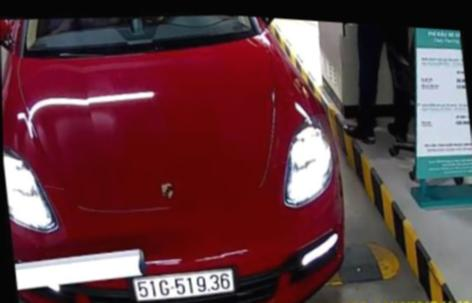License_Plate: (125, 261, 243, 303)
